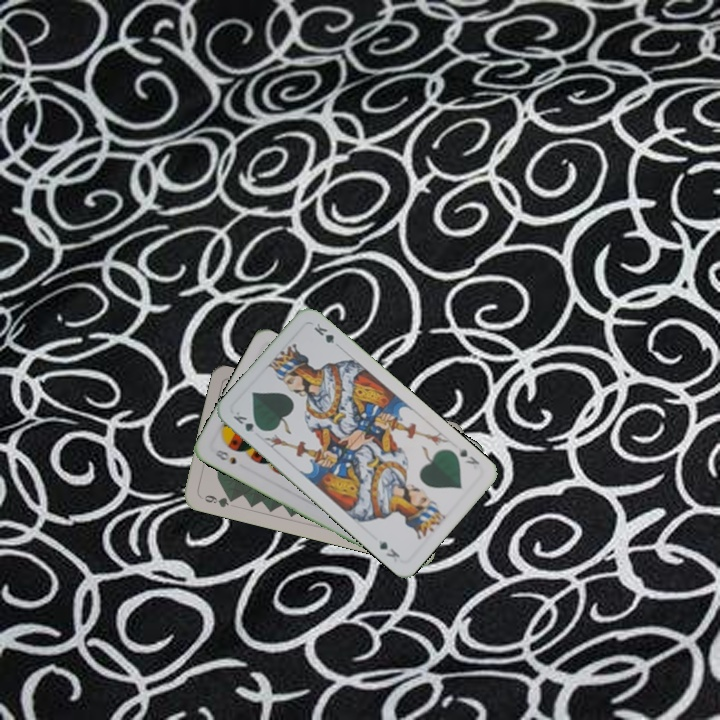G9: (196, 491, 237, 510)
GK: (229, 407, 266, 435), (454, 443, 482, 467)
S8: (211, 445, 239, 467)
